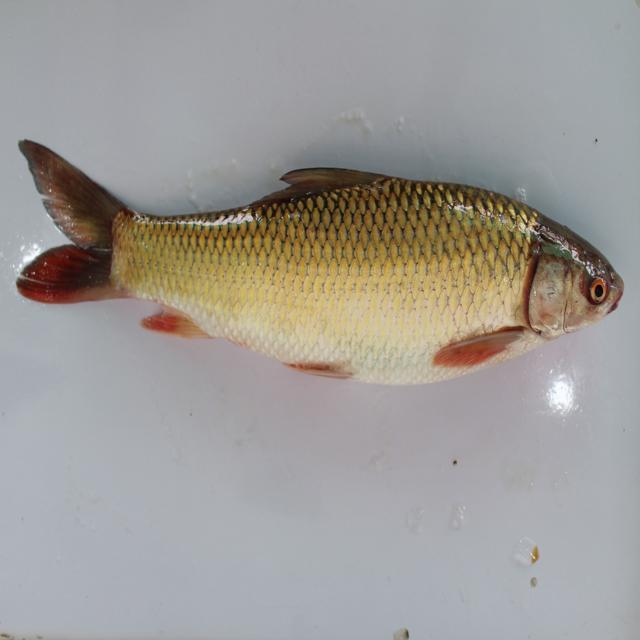Mori: (14, 129, 624, 398)
